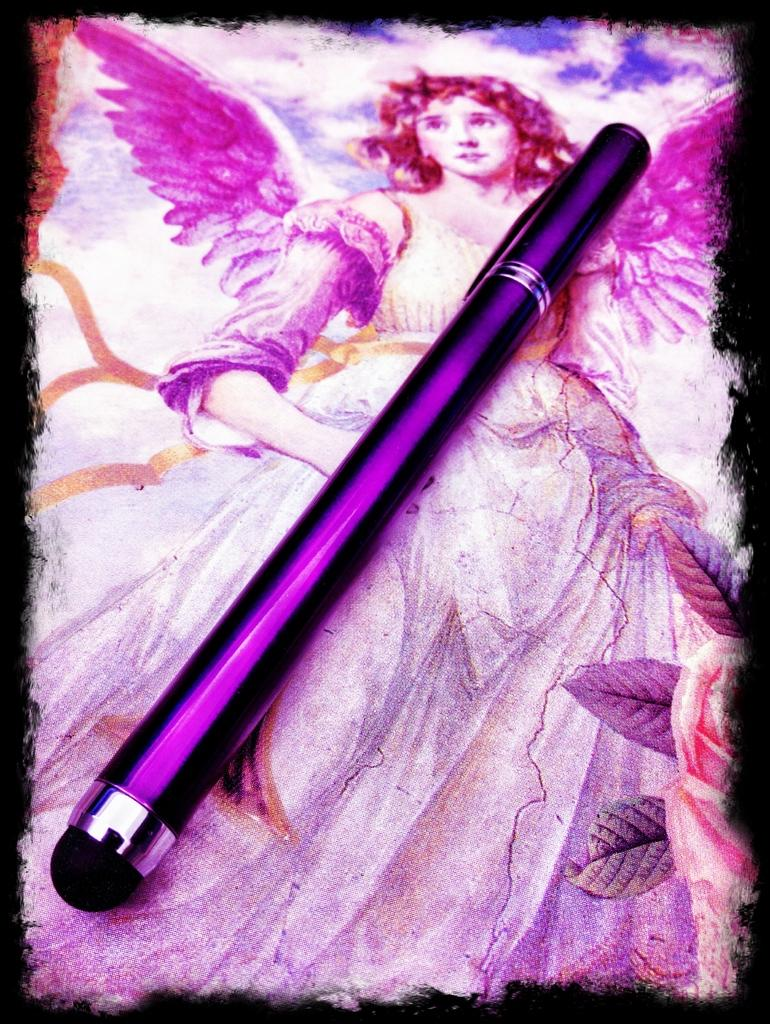pen: (48, 120, 651, 913)
